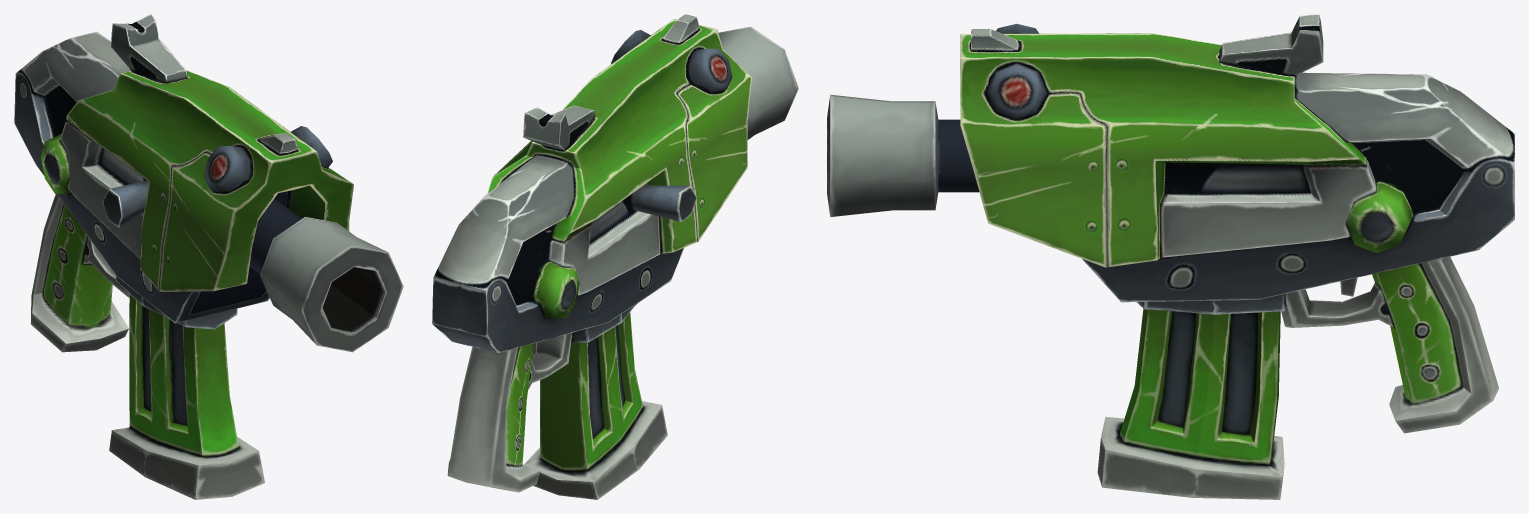
The model's file is gun_2.fbx.
3 views of the same model, side by side, from view 1: azimuth 30°, elevation 25°; view 2: azimuth 150°, elevation 25°; view 3: azimuth 270°, elevation 25° (orthographic). The views are drawn at different scales.
Visible parts, largest first — view 1: gun_2; view 2: gun_2; view 3: gun_2.
Part boxes in pixels (x1,y1,x2,y2): gun_2: [14, 14, 403, 499]; gun_2: [432, 14, 798, 499]; gun_2: [827, 14, 1514, 499].
Size of the model in its own units: 4.78 by 12.15 by 16.51.
1 material, 1 textured.
